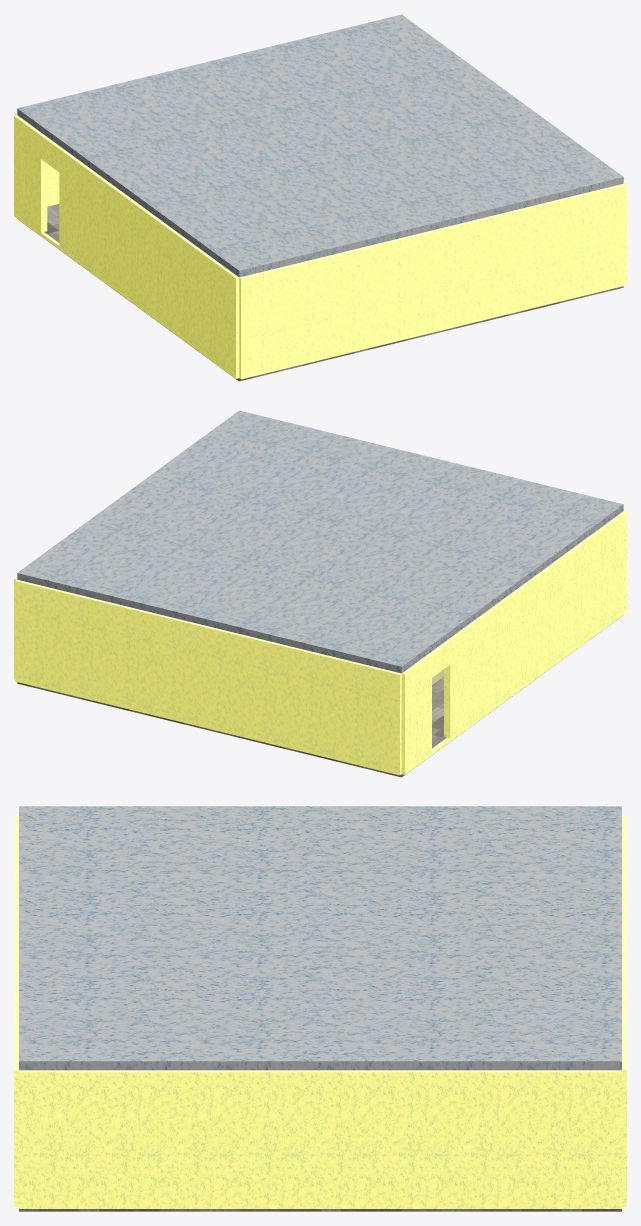
The picture shows the model from 3 angles, top to bottom: view 1: azimuth 30°, elevation 25°; view 2: azimuth 150°, elevation 25°; view 3: azimuth 270°, elevation 25°; orthographic projection. The views are drawn at different scales.
Visible parts, largest first — view 1: Top, Front_Wall, Left_Wall, Floor; view 2: Top, Back_Wall, Left_Wall, Floor; view 3: Top, Right_Wall, Back_Wall, Front_Wall, Floor.
Part boxes in pixels (left/top/right/bottom): Top: left=17, top=14, right=623, bottom=277; Front_Wall: left=239, top=183, right=625, bottom=379; Left_Wall: left=14, top=115, right=239, bottom=378; Floor: left=18, top=204, right=623, bottom=381; Top: left=17, top=410, right=623, bottom=673; Back_Wall: left=15, top=579, right=401, bottom=775; Left_Wall: left=401, top=511, right=626, bottom=774; Floor: left=17, top=615, right=622, bottom=777; Top: left=19, top=806, right=621, bottom=1070; Right_Wall: left=19, top=1070, right=621, bottom=1208; Back_Wall: left=622, top=815, right=626, bottom=1206; Front_Wall: left=14, top=815, right=18, bottom=1206; Floor: left=19, top=1209, right=621, bottom=1211.
Size of the model in its own units: 12.2 by 3.3 by 12.2.
Materials: 5 (5 with a texture image).
